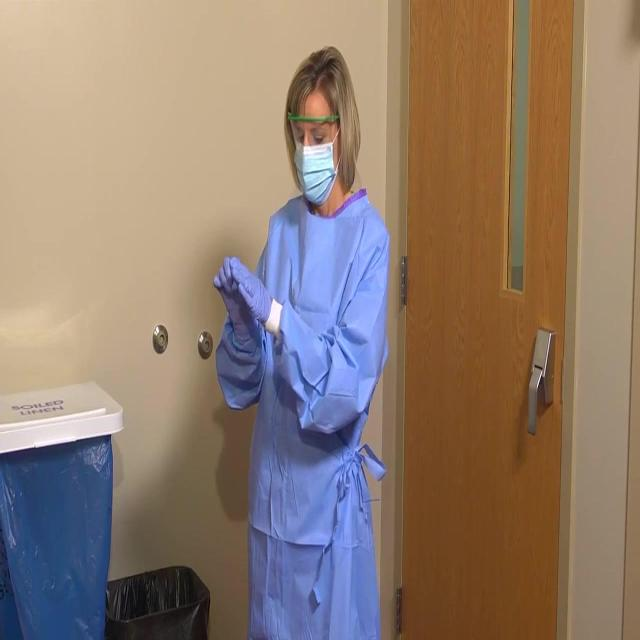Coverall: (248, 198, 381, 640)
Gloves: (207, 246, 283, 351)
Mask: (288, 135, 338, 205)
